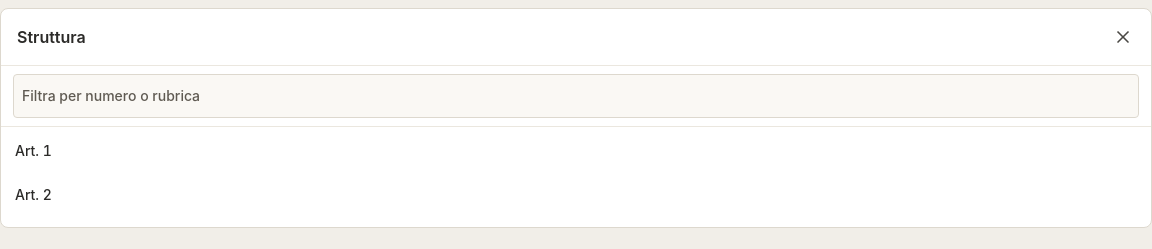
Test: TreeViewPanel — filter › shows an empty state when nothing matches
Step 1. Type "zzz" into the search field named "Filtra gli articoli per numero o rubrica" → (576, 96), box [13,74,1139,118]
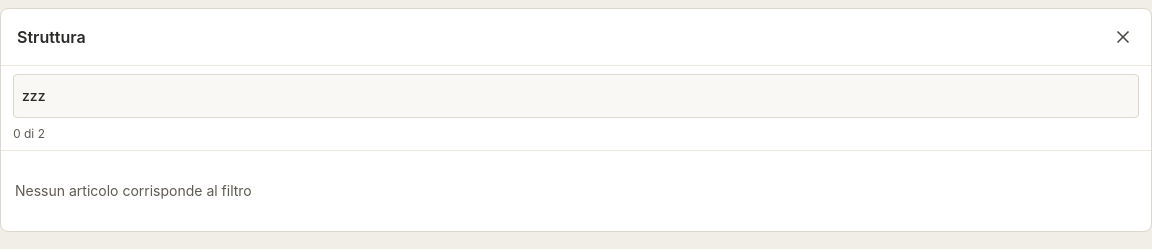
Result: the text "Nessun articolo corrisponde al filtro" is shown at [15,182,252,199]
